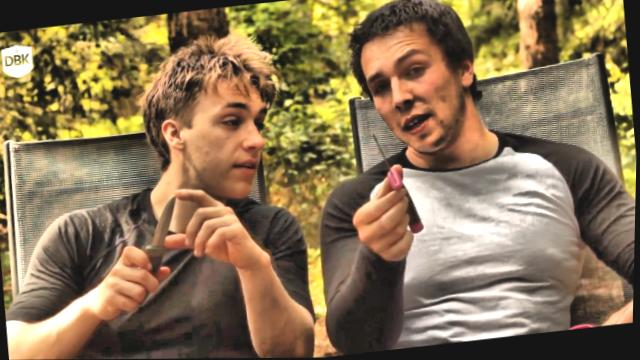knife: (119, 185, 197, 313), (359, 120, 432, 251)
